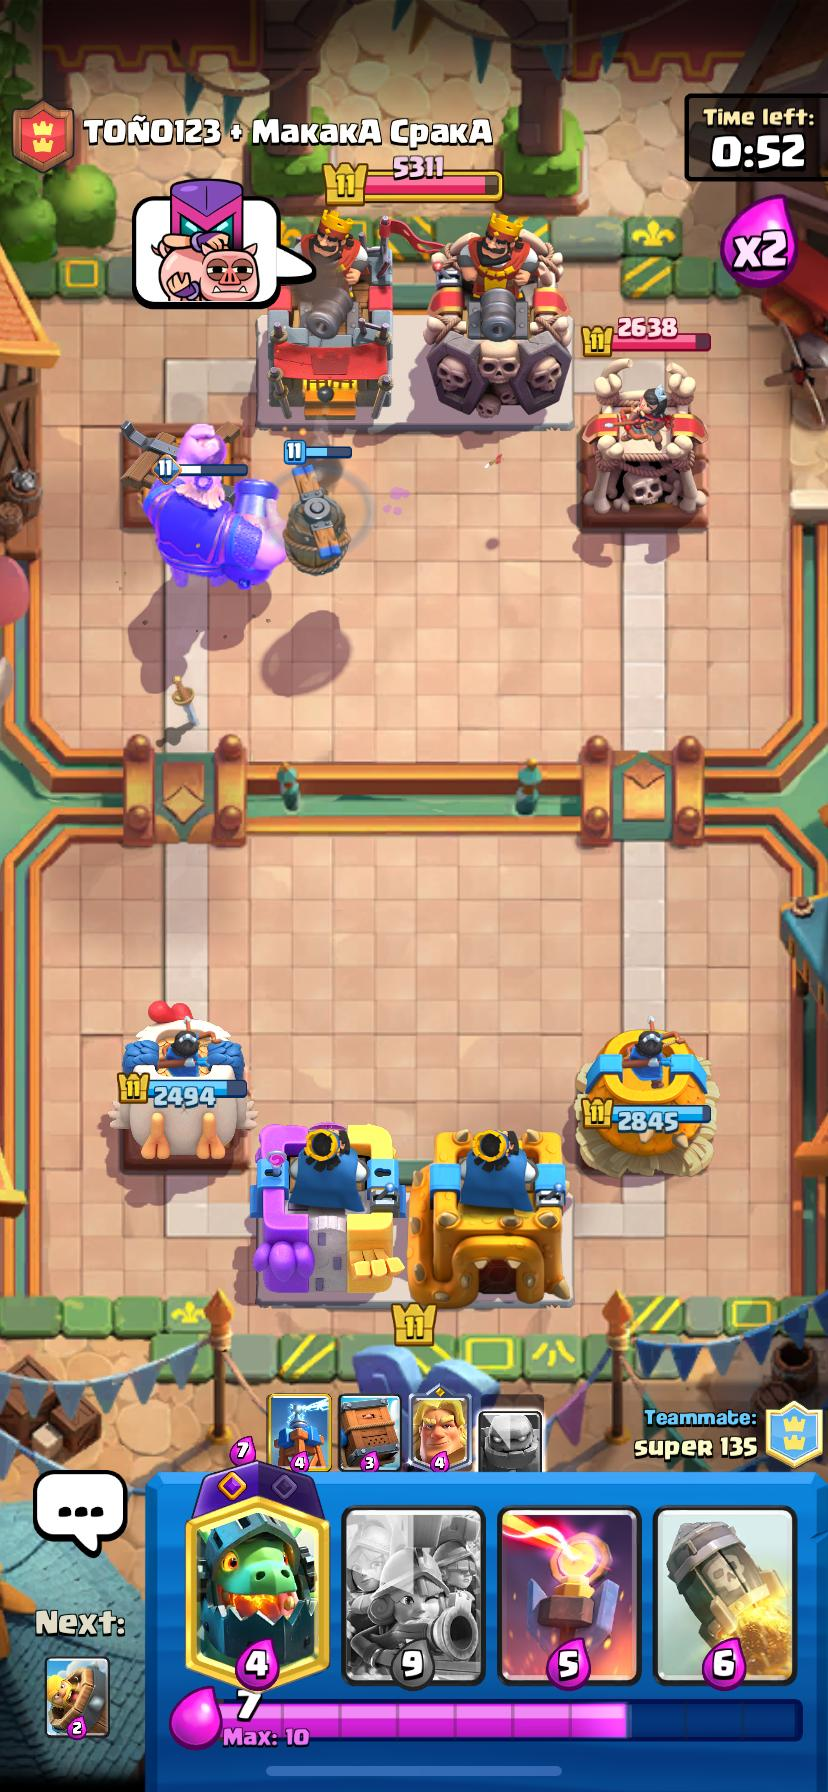EKingTower: (424, 213, 571, 419), (268, 209, 392, 426)
EnemyPrincessTower: (580, 362, 706, 521)
OEVRoyalG: (143, 474, 266, 587)
OFlyingMachine: (282, 464, 350, 574)
OwnKingTower: (408, 1129, 571, 1306), (252, 1123, 403, 1303)
OwnPrincessTower: (109, 1001, 255, 1162), (576, 1019, 717, 1175)
TowerDown: (121, 424, 252, 528)
